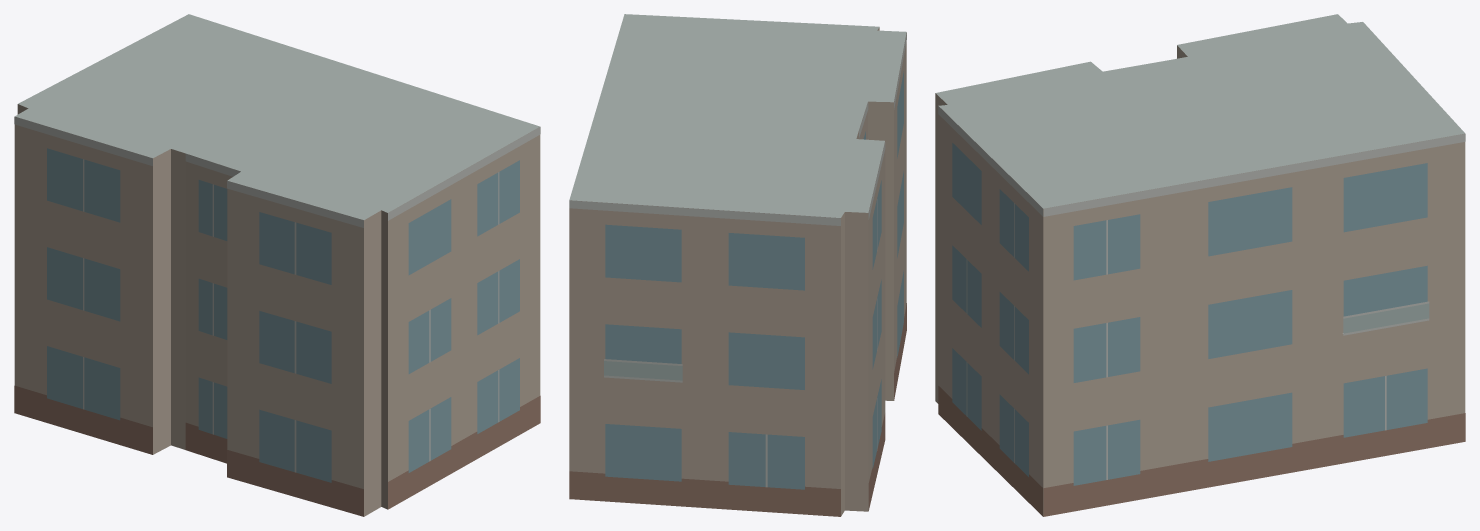
File: survey-upis-32743148.glb
3 views of the same model, side by side, from view 1: azimuth 30°, elevation 25°; view 2: azimuth 150°, elevation 25°; view 3: azimuth 270°, elevation 25° (orthographic). The views are drawn at different scales.
Visible parts, largest first — view 1: survey-upis-32743148.tmp; view 2: survey-upis-32743148.tmp; view 3: survey-upis-32743148.tmp.
Part boxes in pixels (x1,y1,x2,y2): survey-upis-32743148.tmp: (14,14,540,516); survey-upis-32743148.tmp: (569,14,906,516); survey-upis-32743148.tmp: (935,14,1465,516).
Size of the model in its own units: 12.34 by 9.1 by 14.19.
